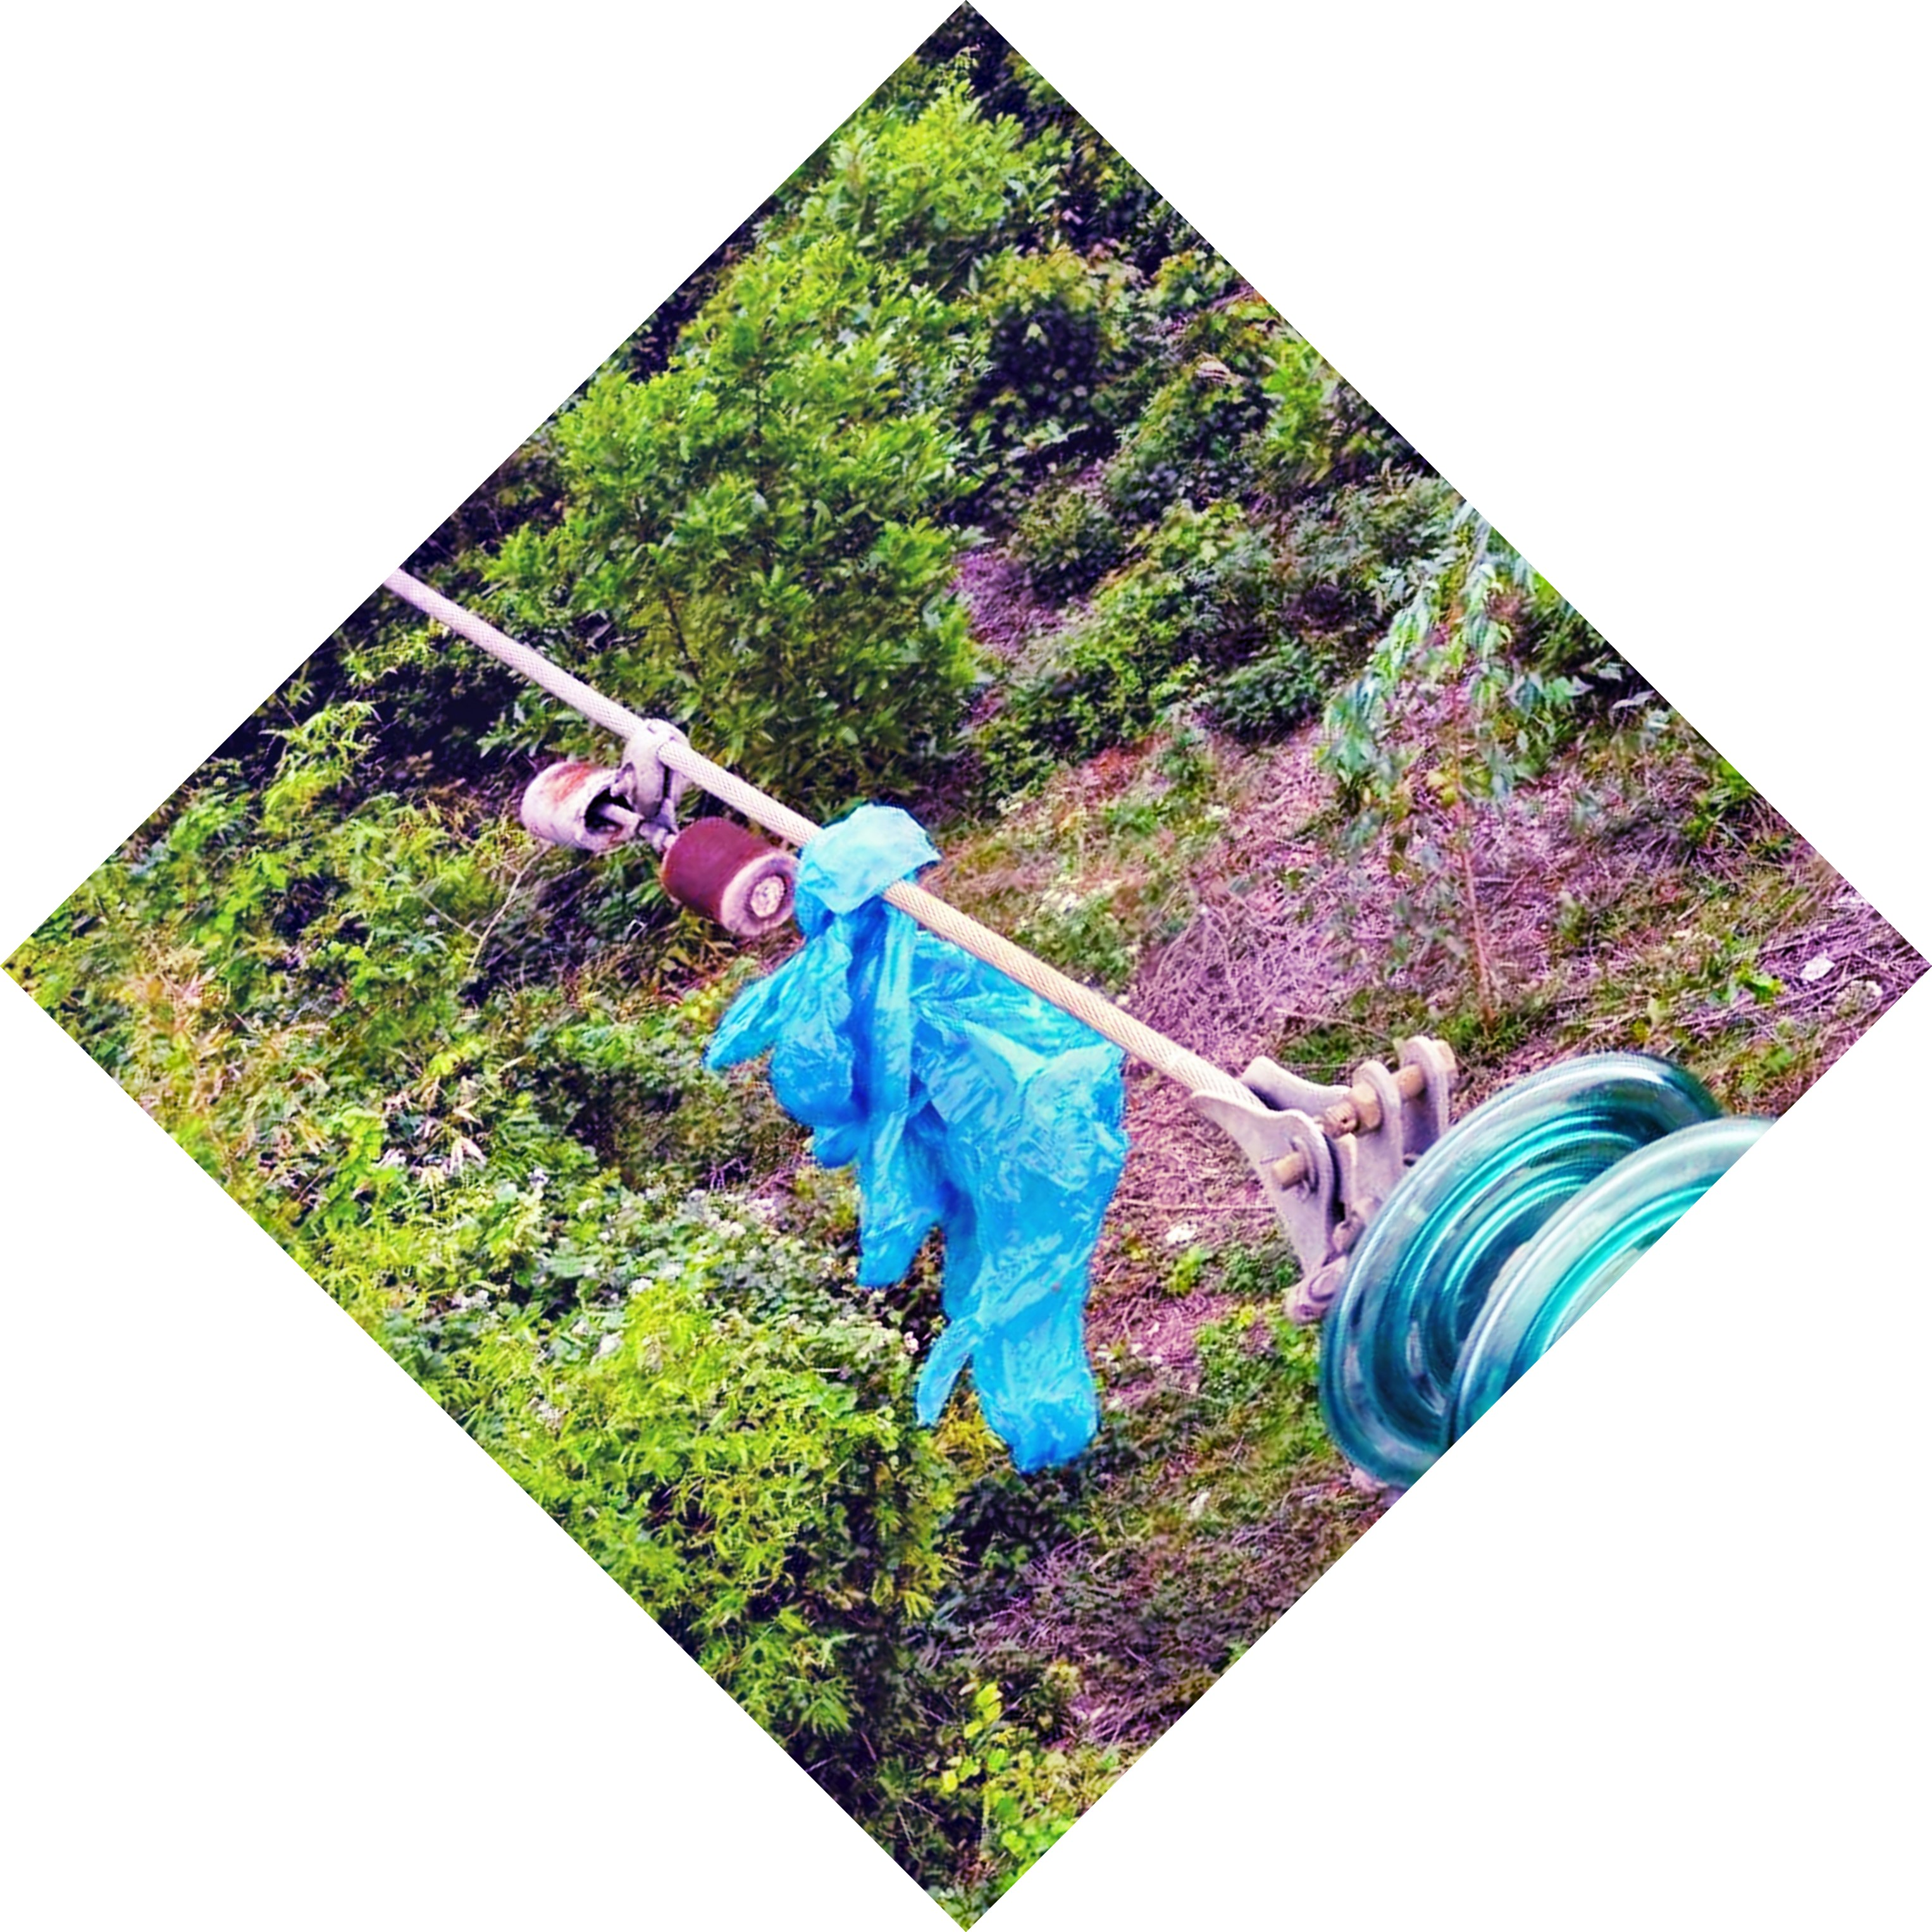wire foreign body: (678, 777, 1207, 1490)
